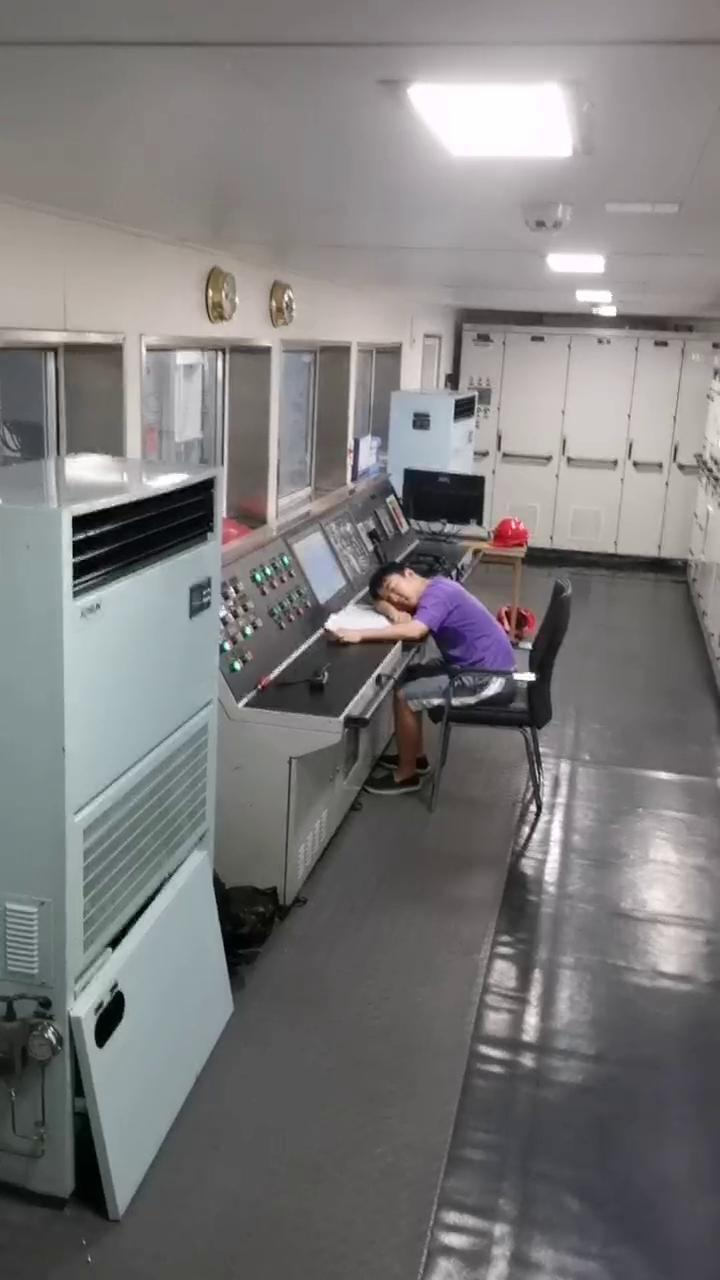sleep: (334, 561, 527, 684)
